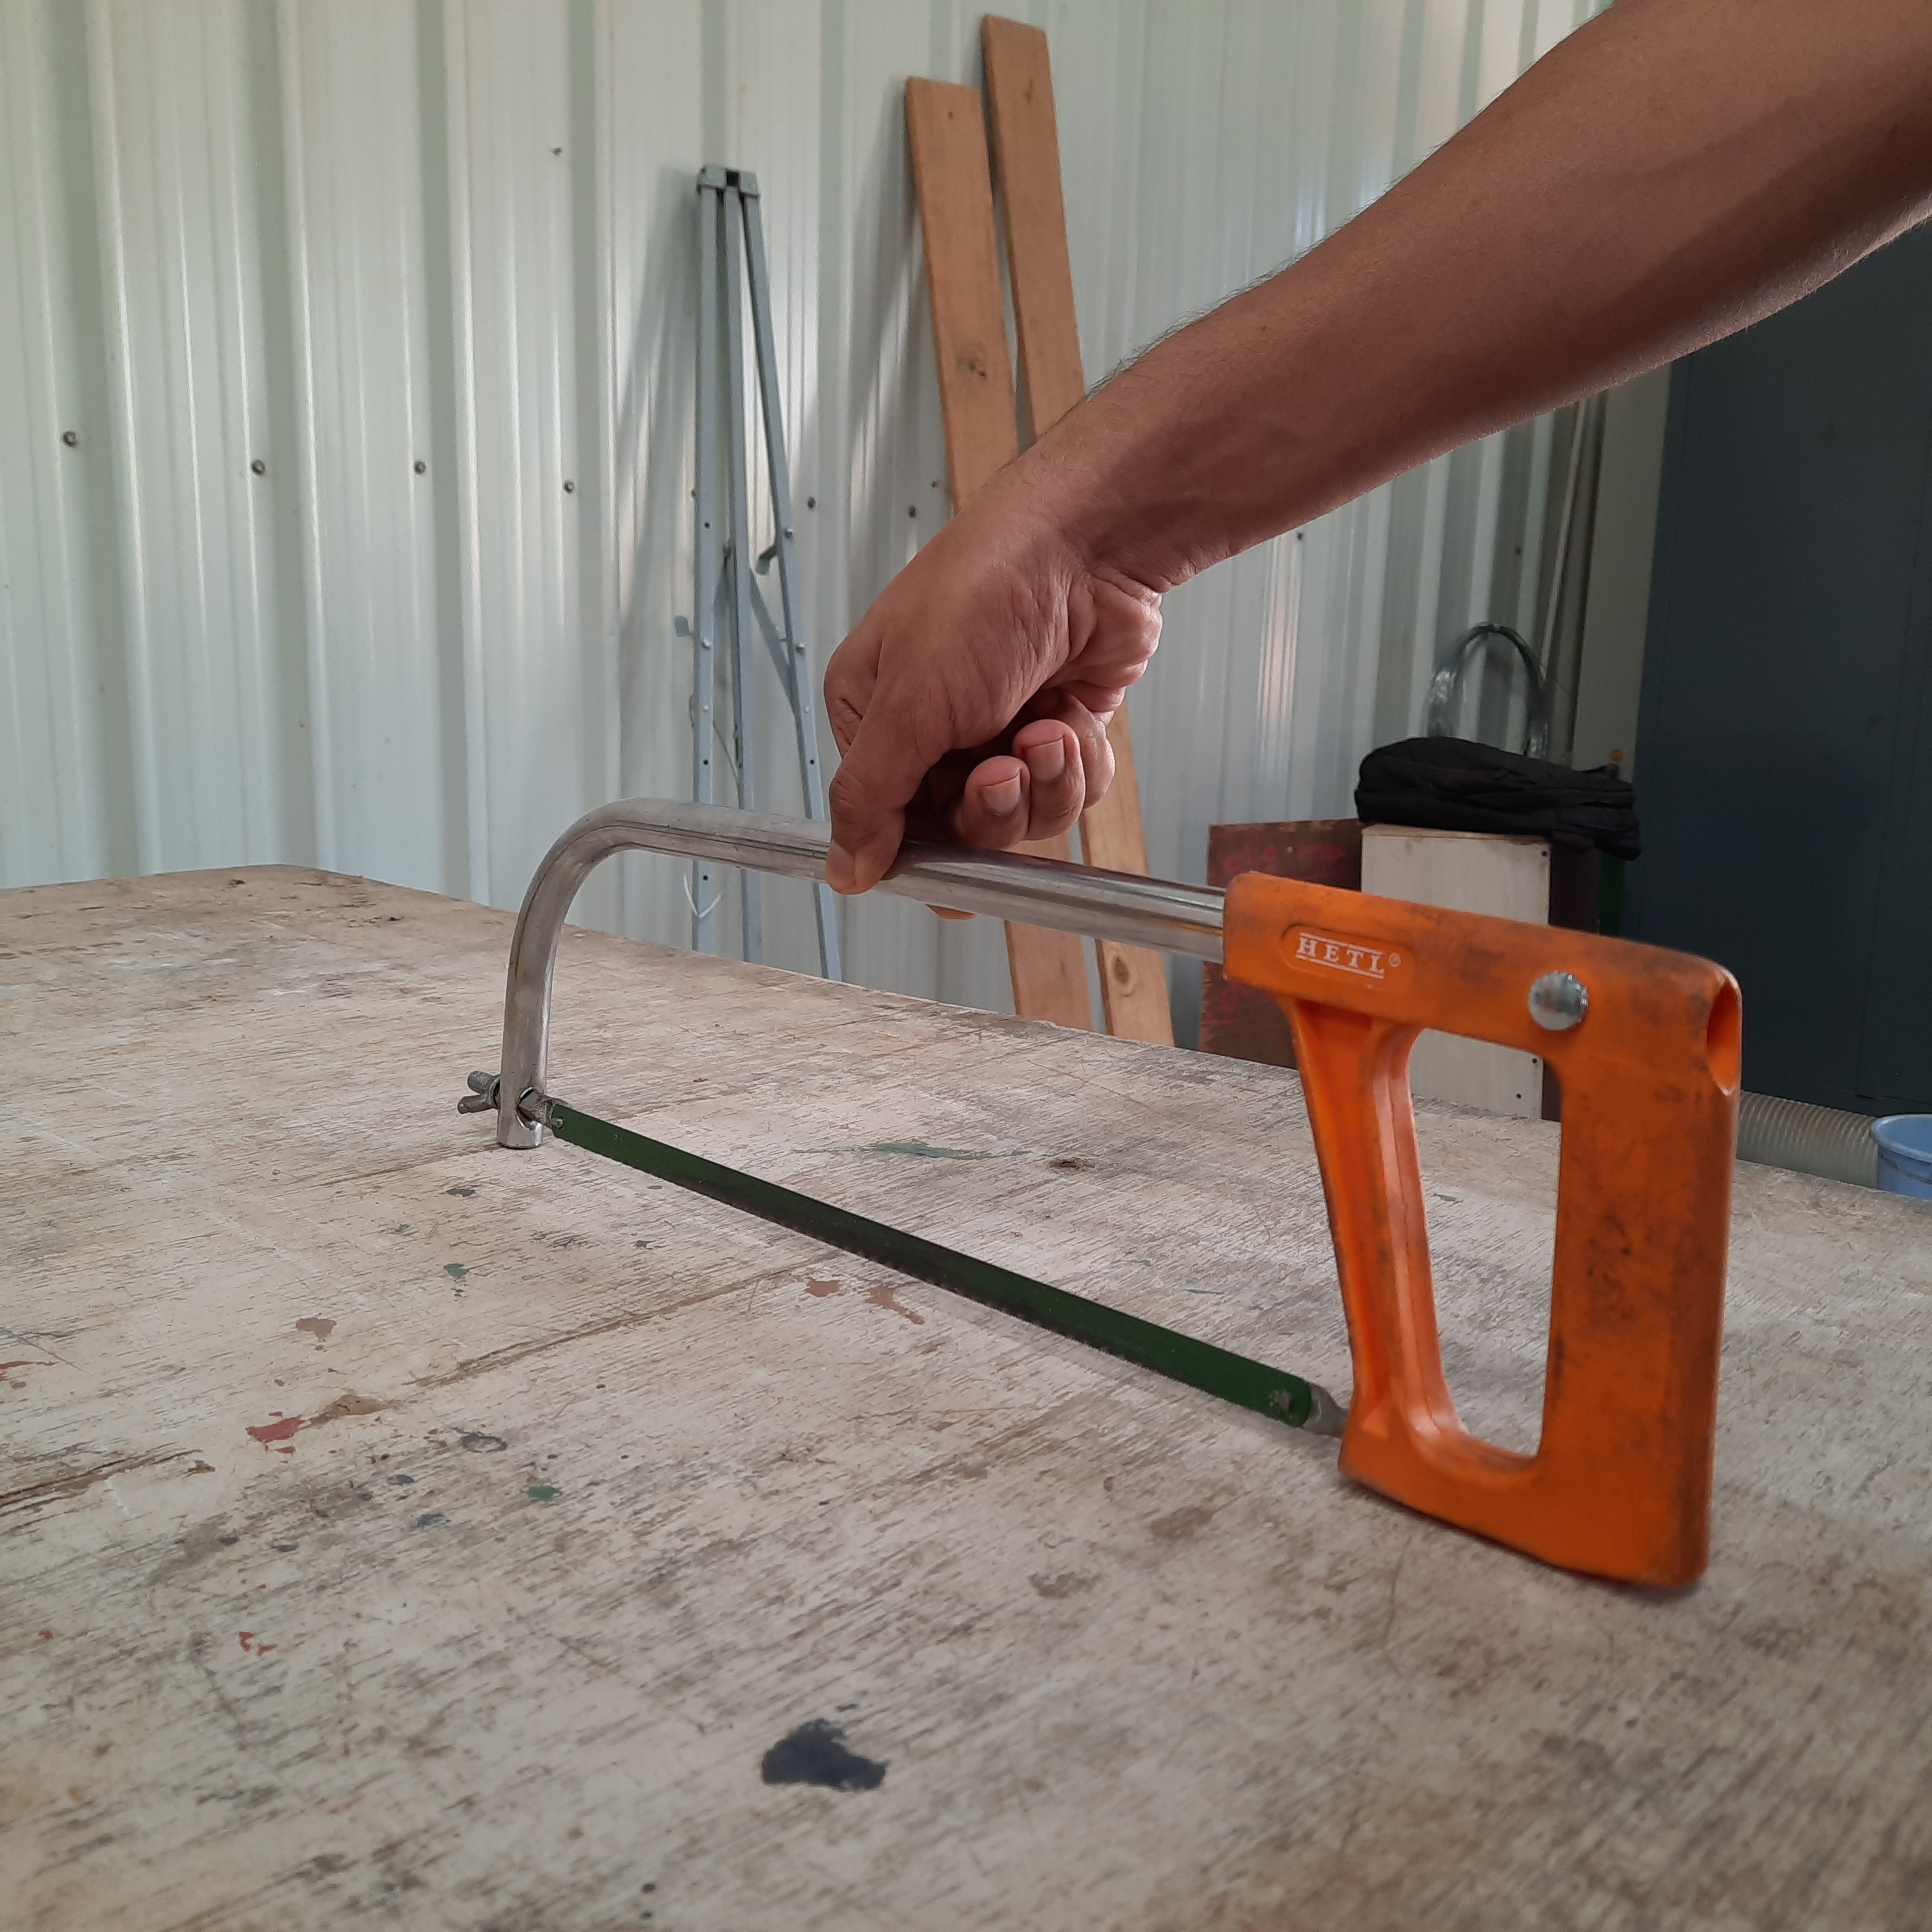Hexaframe: (474, 780, 1757, 1605)
